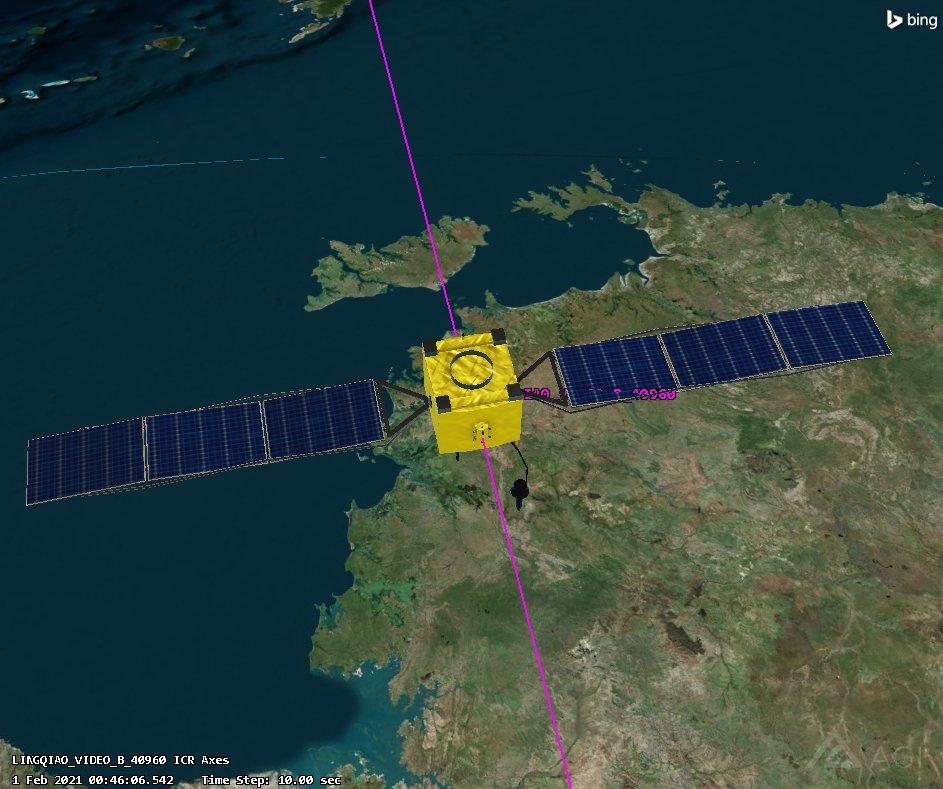antenna: (506, 437, 534, 514)
body: (420, 326, 527, 452)
solar: (21, 362, 433, 509), (517, 297, 892, 409)
